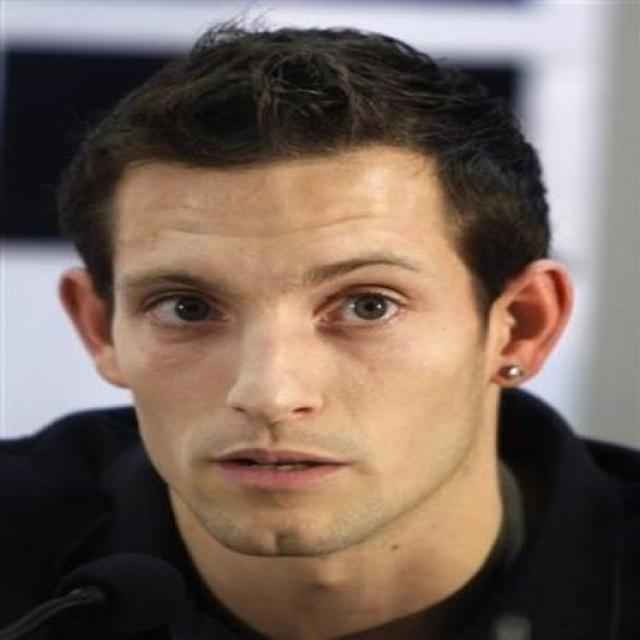0_rostro_limpio: (63, 86, 570, 554)
